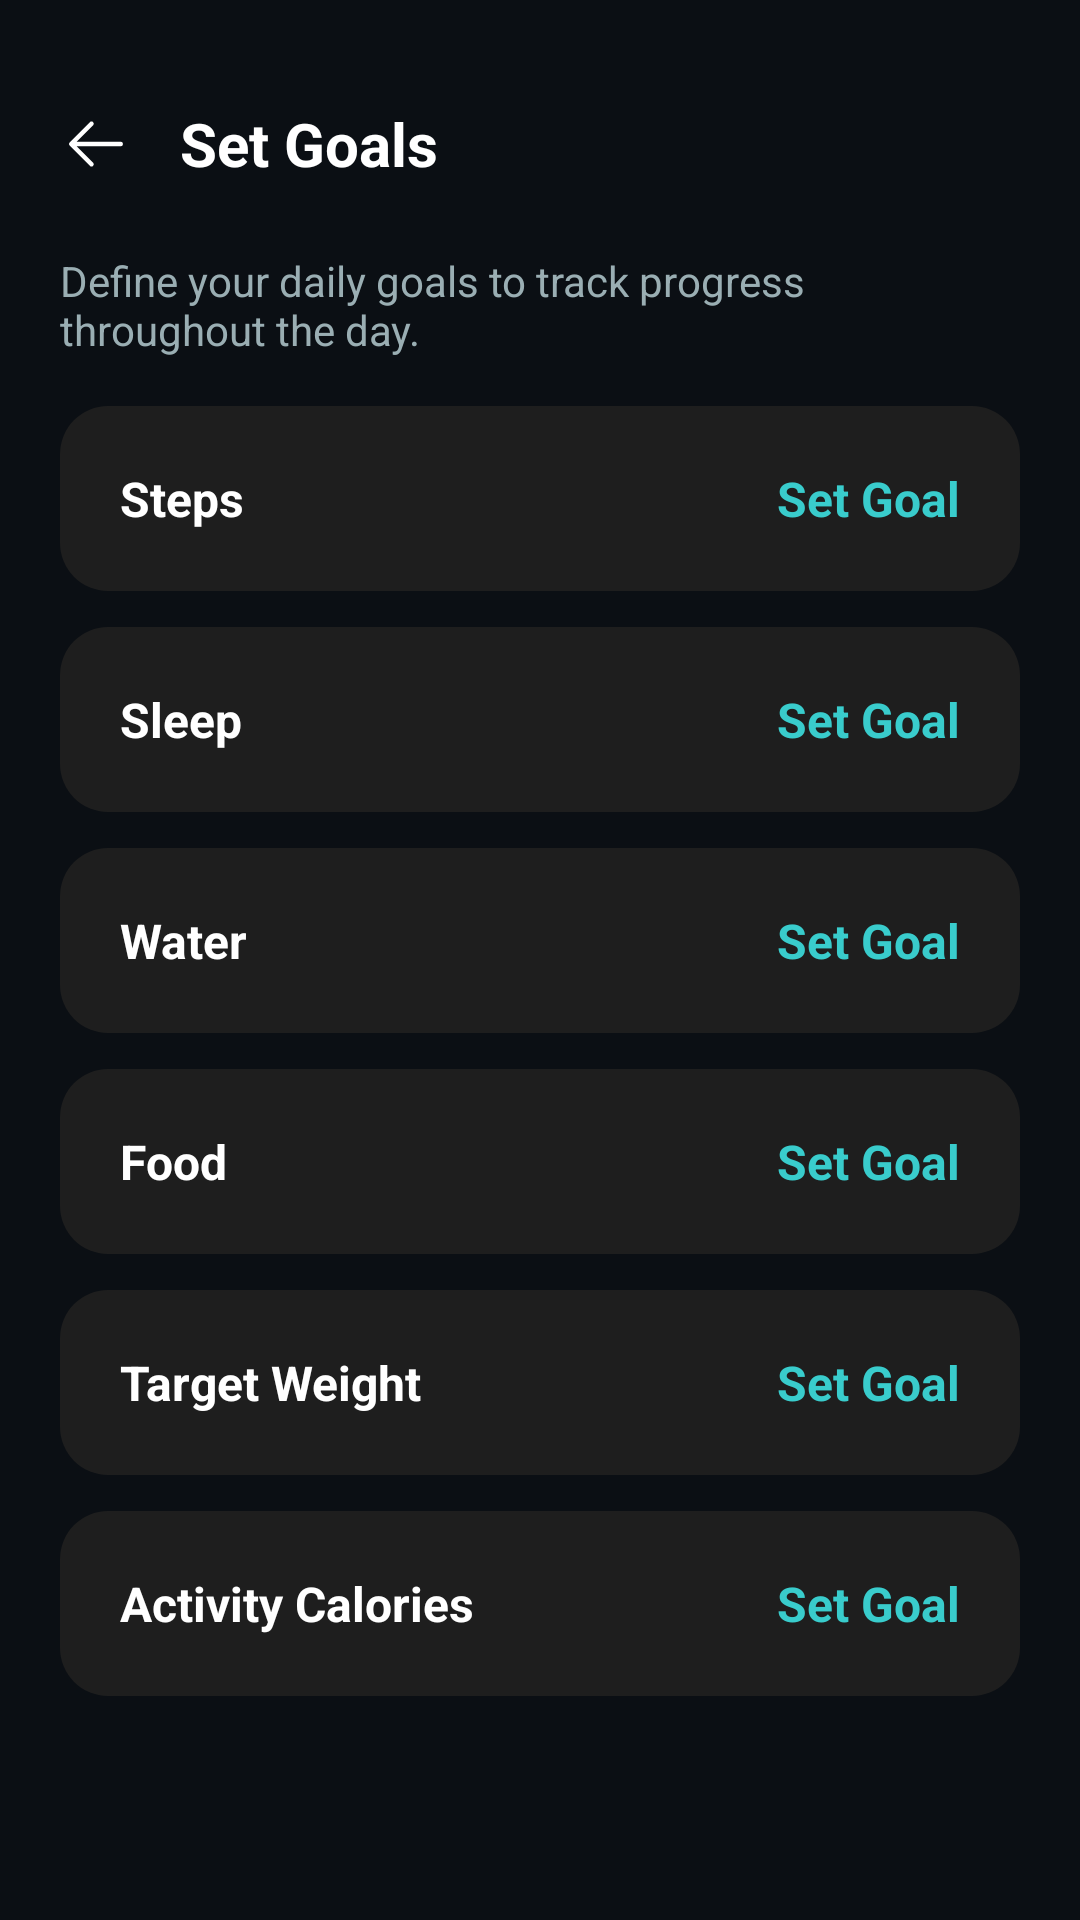

Named icons in this screenshot (1080×1920) and their bounding boxes, {"x1": x1, "y1": y1, "x2": x2, "y2": y2}:
Back: {"x1": 69, "y1": 121, "x2": 123, "y2": 167}
